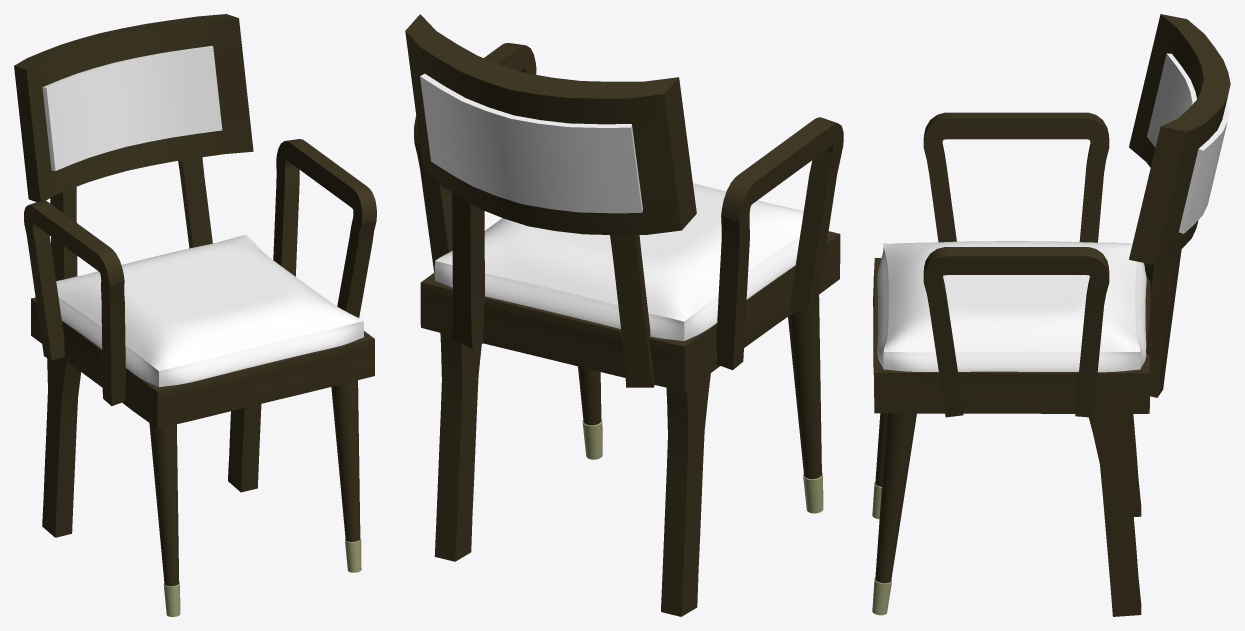
Rendered from SS_Chair1_02_DF.fbx.
3 views of the same model, side by side, from view 1: azimuth 30°, elevation 25°; view 2: azimuth 150°, elevation 25°; view 3: azimuth 270°, elevation 25° (orthographic). The views are drawn at different scales.
Parts seen in each view (by area): view 1: Chair1_Body, Chair1_FrontLegs; view 2: Chair1_Body, Chair1_FrontLegs; view 3: Chair1_Body, Chair1_FrontLegs.
Part boxes in pixels (bbox=[...]): Chair1_Body: bbox=[14, 14, 376, 537]; Chair1_FrontLegs: bbox=[149, 380, 361, 616]; Chair1_Body: bbox=[405, 14, 843, 616]; Chair1_FrontLegs: bbox=[578, 296, 823, 513]; Chair1_Body: bbox=[873, 14, 1230, 616]; Chair1_FrontLegs: bbox=[872, 413, 916, 615].
Size of the model in its own units: 0.9448 by 1.51 by 0.9952.
